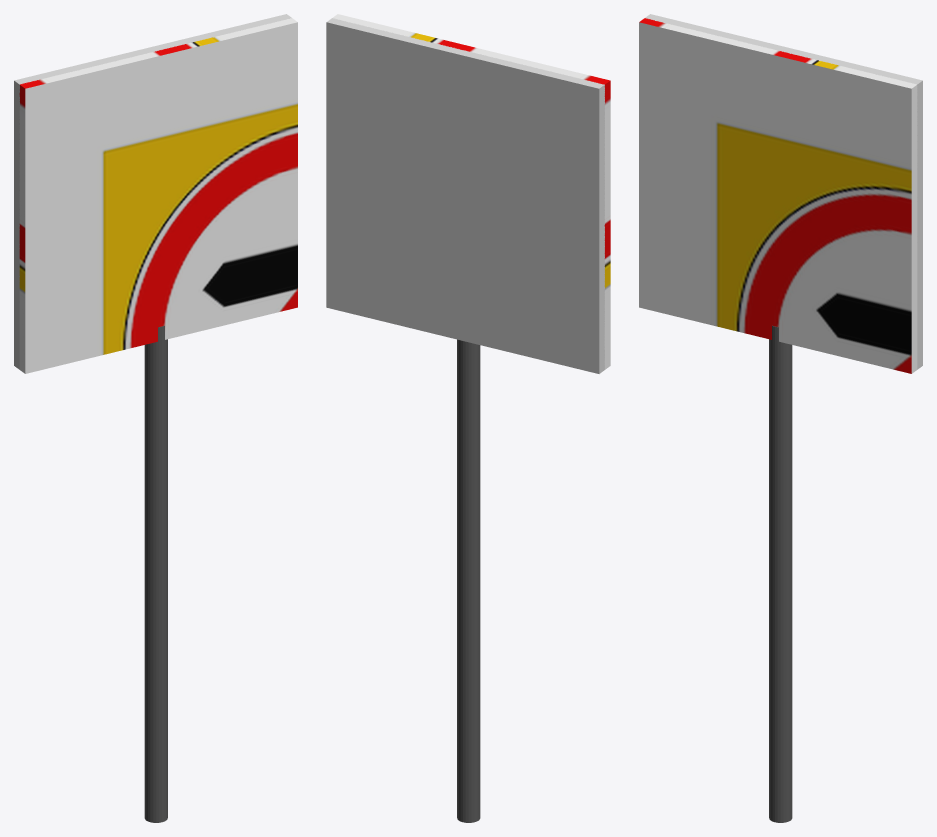
Rendered from teknofest_sign_sola_donulmez.fbx.
The picture shows the model from 3 angles, left to right: view 1: azimuth 30°, elevation 25°; view 2: azimuth 150°, elevation 25°; view 3: azimuth 330°, elevation 25°; orthographic projection.
Parts seen in each view (by area): view 1: teknofest_sign_sola_donulmez_board, teknofest_sign_sola_donulmez_pole, teknofest_sign_sola_donulmez_back; view 2: teknofest_sign_sola_donulmez_back, teknofest_sign_sola_donulmez_pole, teknofest_sign_sola_donulmez_board; view 3: teknofest_sign_sola_donulmez_board, teknofest_sign_sola_donulmez_pole, teknofest_sign_sola_donulmez_back.
Boxes of the visible parts, <box> form: teknofest_sign_sola_donulmez_board: <box>19,18,297,373</box>; teknofest_sign_sola_donulmez_pole: <box>144,325,167,822</box>; teknofest_sign_sola_donulmez_back: <box>14,14,291,369</box>; teknofest_sign_sola_donulmez_back: <box>326,18,604,373</box>; teknofest_sign_sola_donulmez_pole: <box>457,339,480,822</box>; teknofest_sign_sola_donulmez_board: <box>333,14,610,369</box>; teknofest_sign_sola_donulmez_board: <box>639,18,917,373</box>; teknofest_sign_sola_donulmez_pole: <box>769,325,792,822</box>; teknofest_sign_sola_donulmez_back: <box>645,14,922,369</box>.
Size of the model in its own units: 95 by 255 by 7.05.
3 materials, 1 textured.
